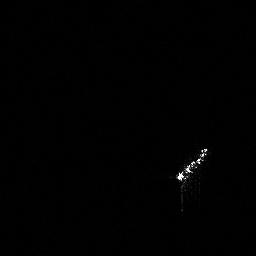ship: (172, 143, 213, 194)
